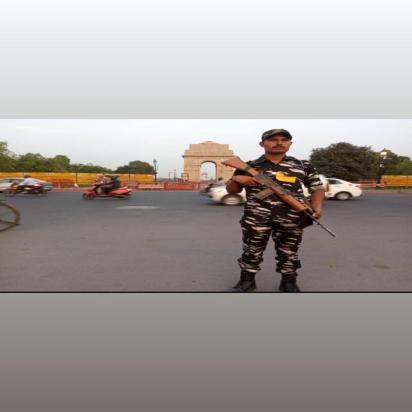Gun: (219, 155, 339, 238)
